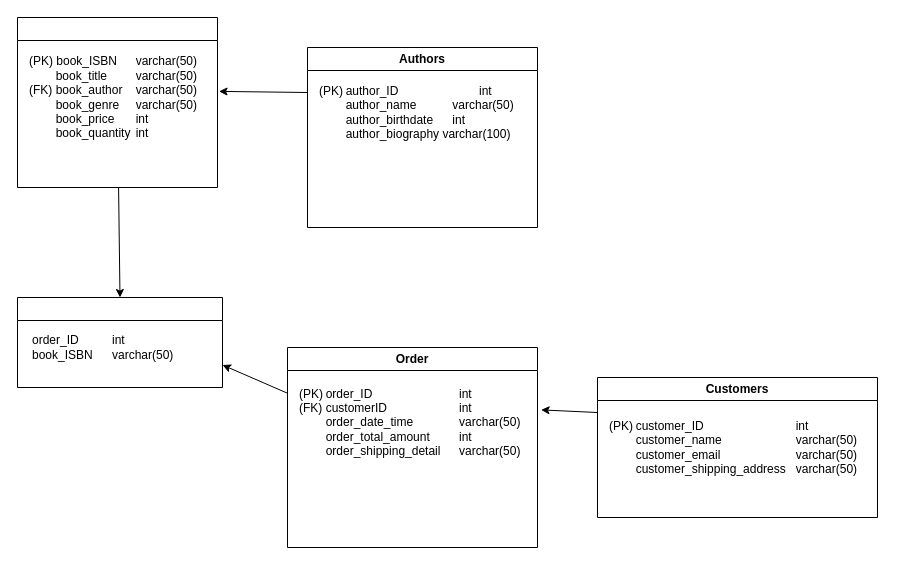
The diagram is 903 pixels wide and 565 high, and some of its shapes have lost their labels. The shapes that lost their labels are listed below. From the top down, each one's box as (x1, y1, x2, y2) in pixels, then its label:
(16, 16, 218, 188): Books
(16, 296, 222, 388): BookOrder
